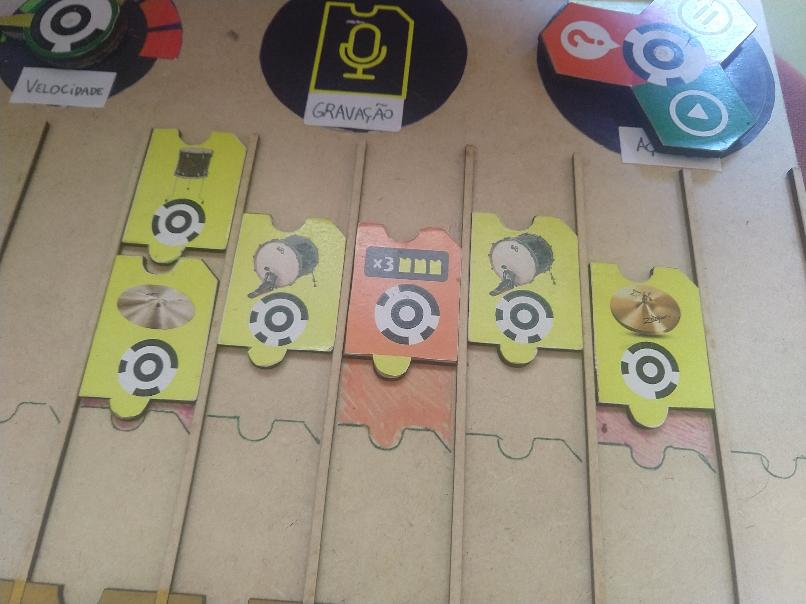bumbo: (213, 211, 346, 369), (465, 211, 587, 367)
